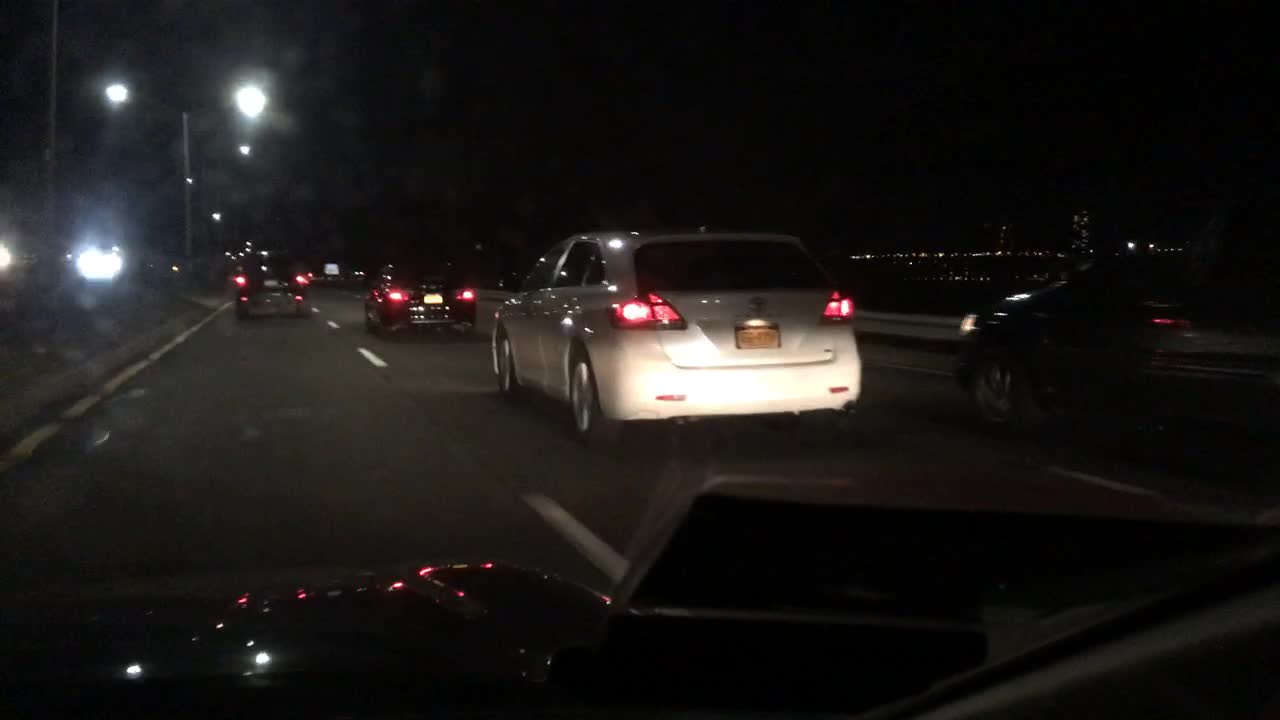car: (489, 220, 869, 447), (953, 243, 1278, 481), (359, 254, 477, 336), (225, 244, 315, 316), (68, 247, 127, 283), (967, 411, 974, 421)
